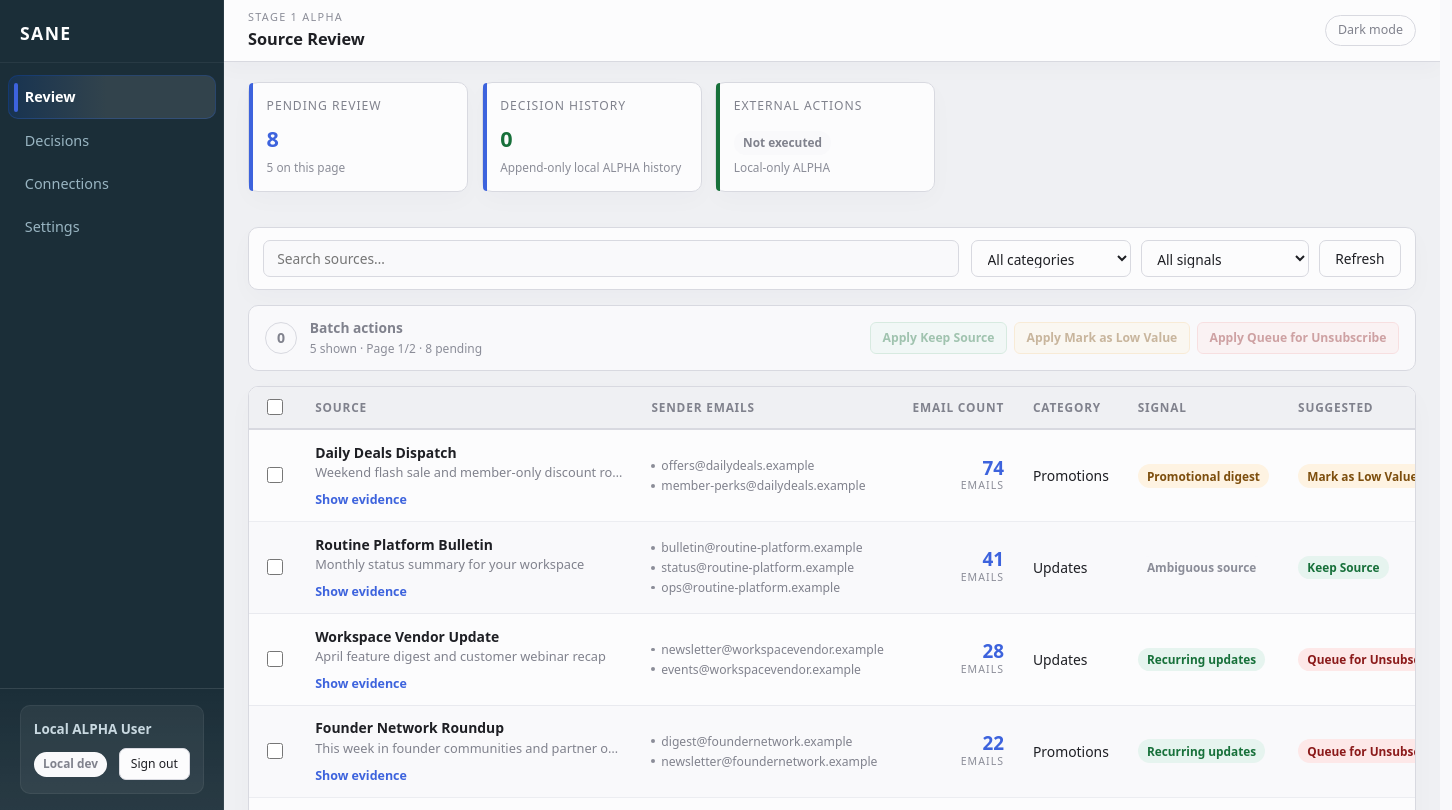
Test: App › batch decisions require confirmation before updating local state
Click the checkbox named "select daily deals dispatch" at x=275, y=475, box [267,467,283,483]
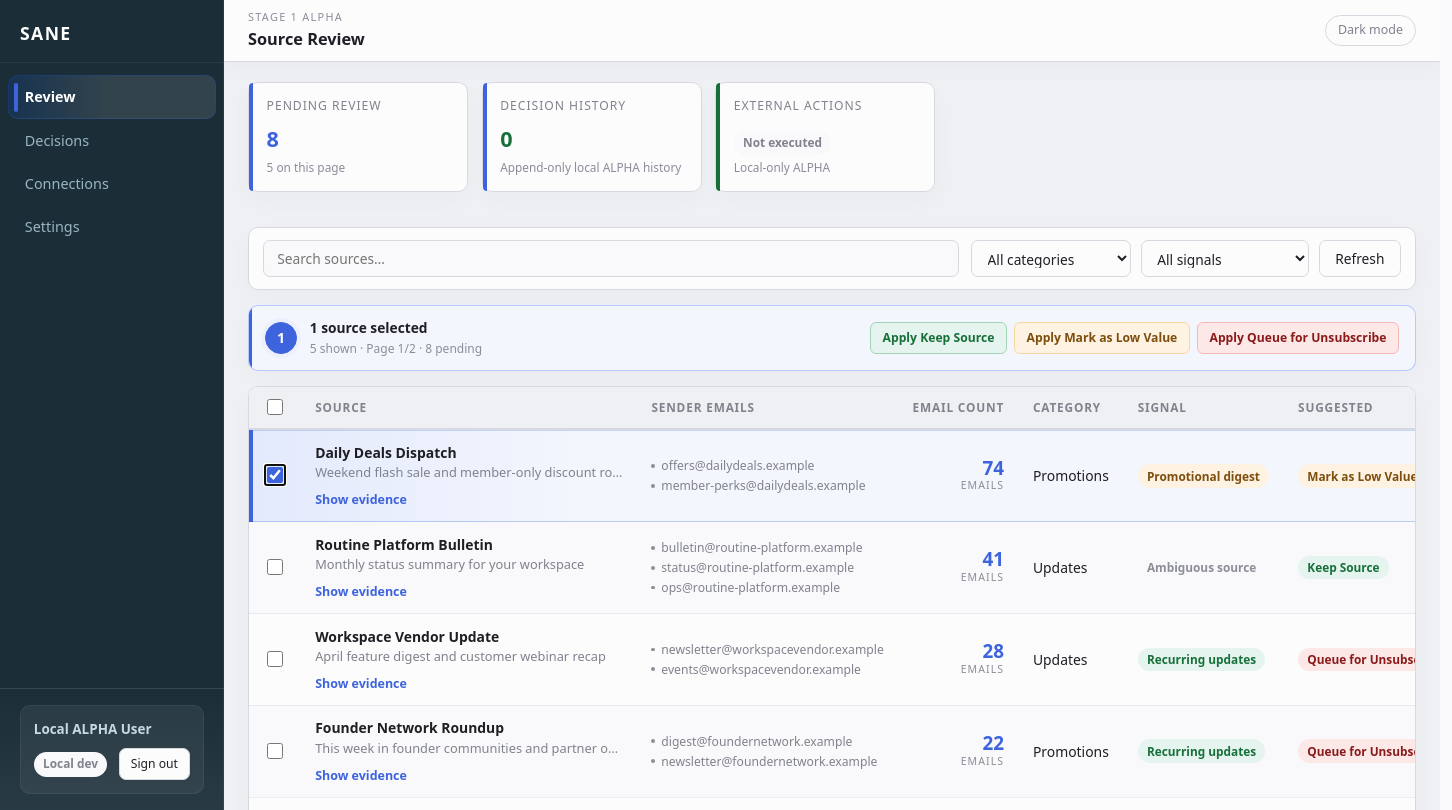
Click the checkbox named "select routine platform bulletin" at x=275, y=567, box [267,559,283,575]
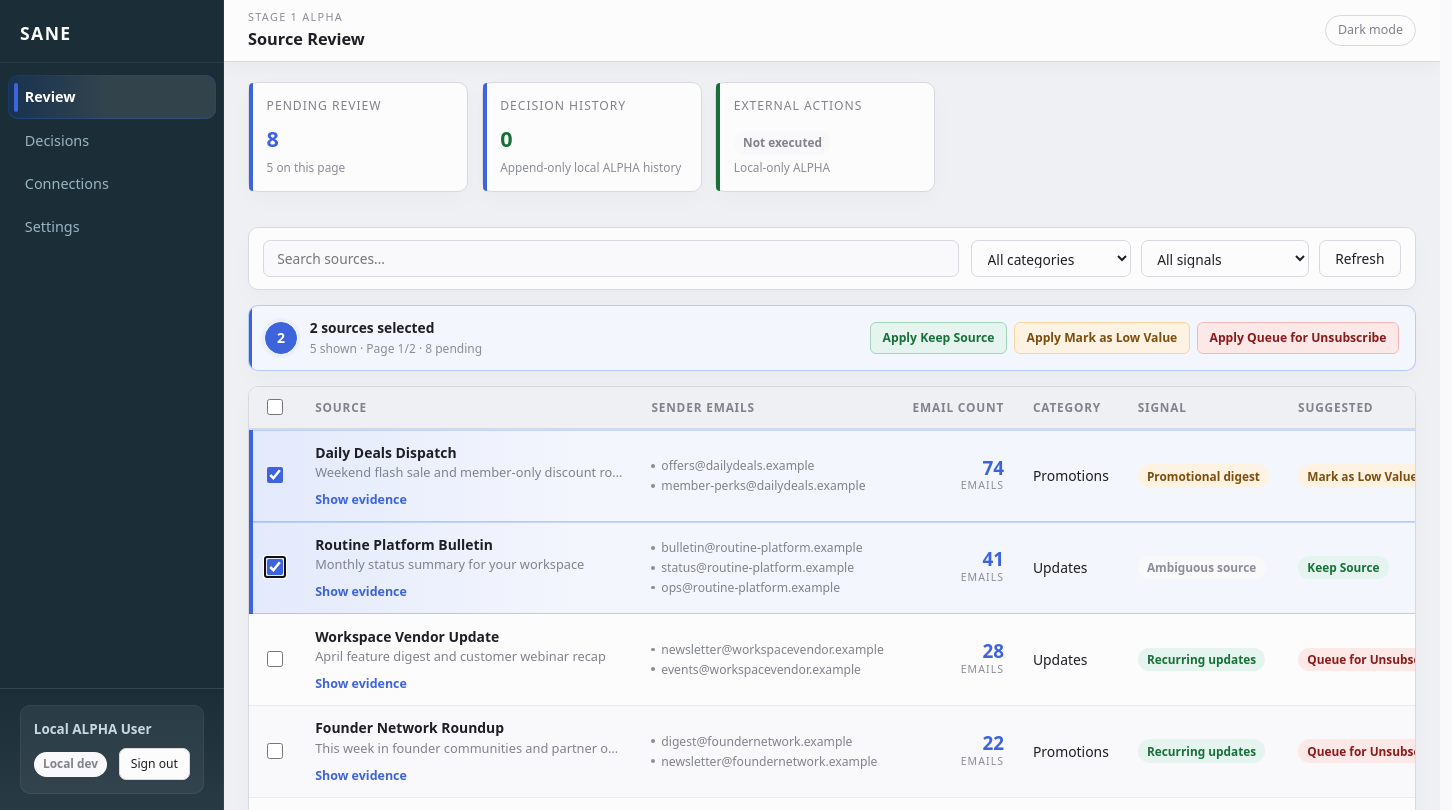
Click the button "Apply Mark as Low Value" at x=1102, y=338, box [1014,322,1190,354]
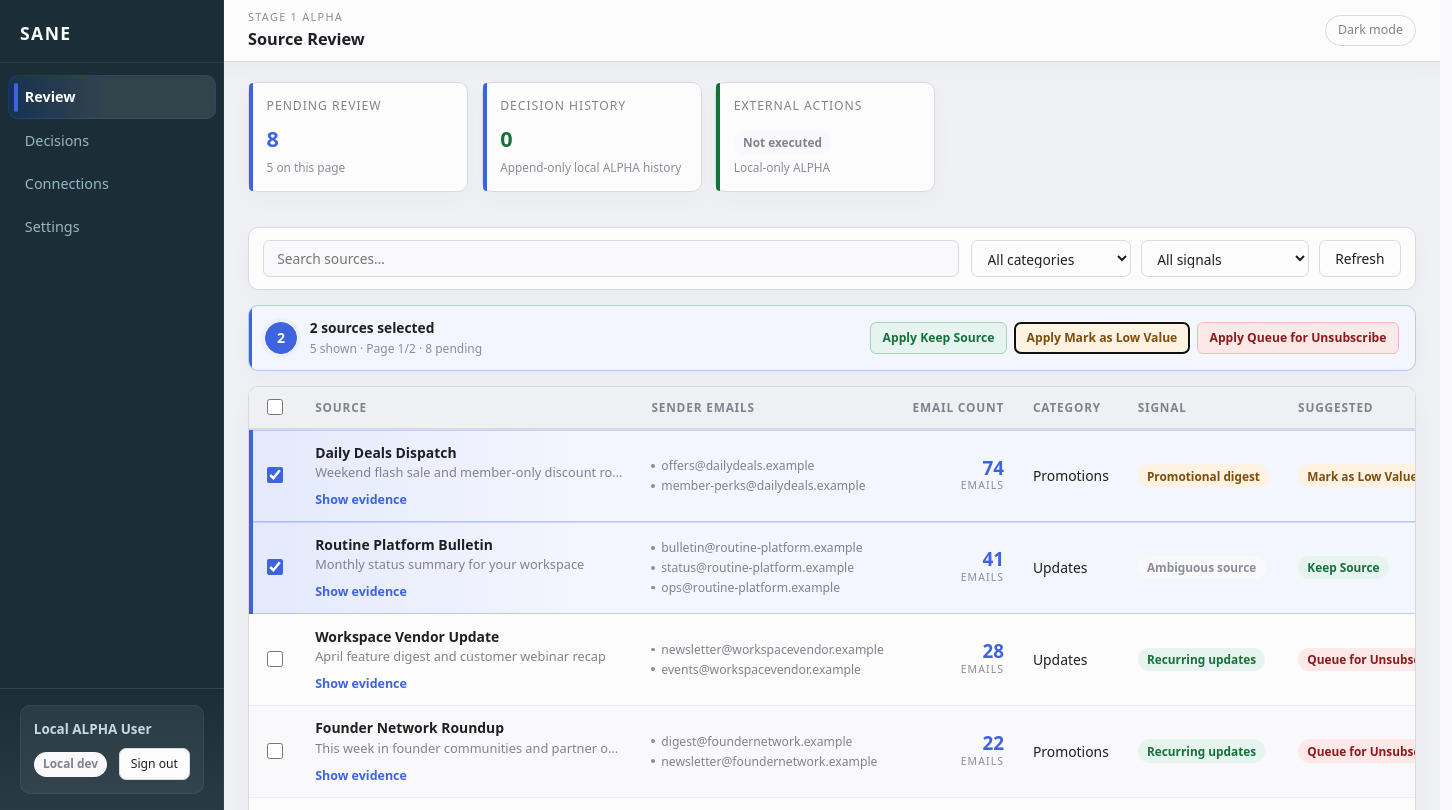
expect the text "Daily Deals Dispatch" is shown: met, box [315,443,456,462]
Click the button "Apply Mark as Low Value" at x=1102, y=338, box [1014,322,1190,354]
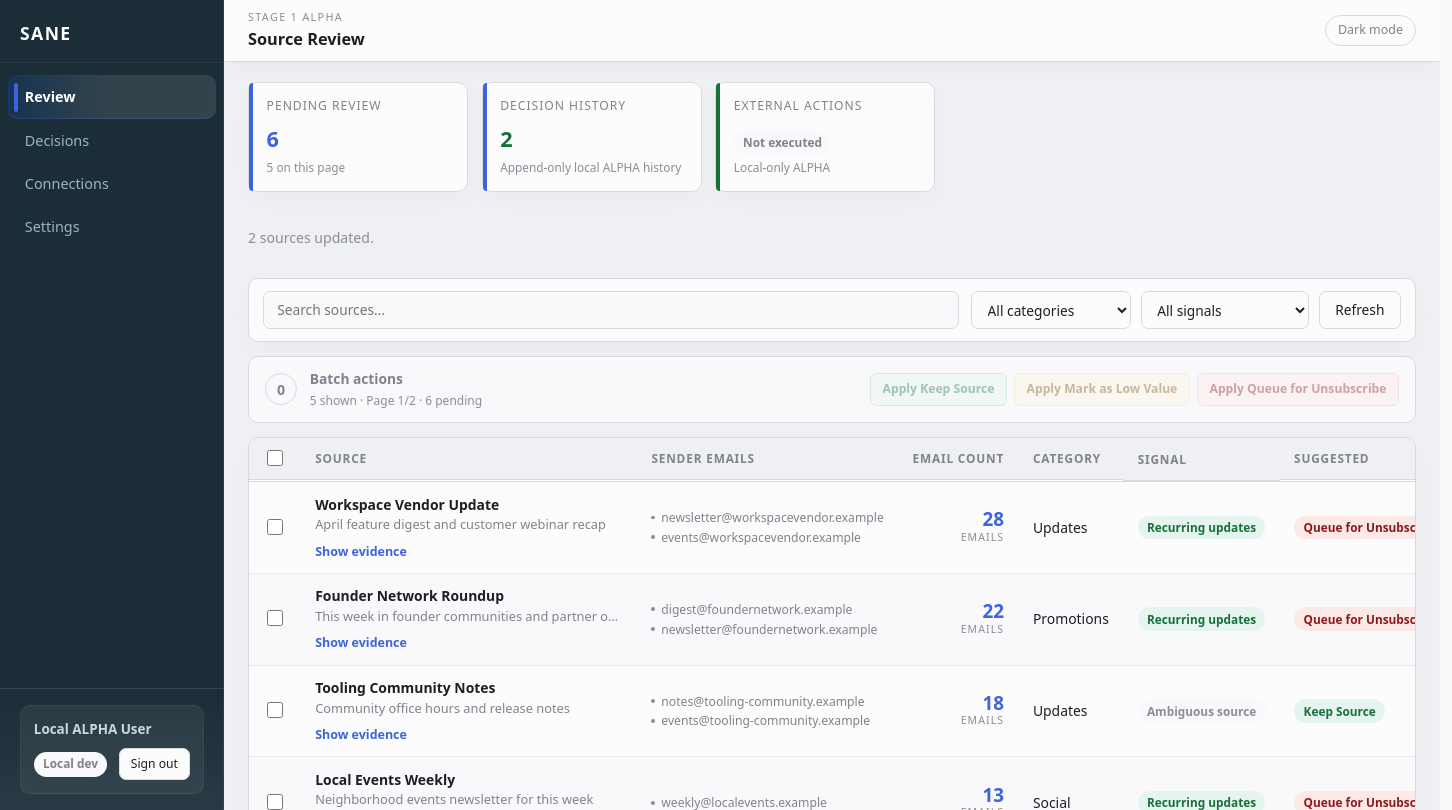
expect the text "Daily Deals Dispatch" is gone: met
expect the message shows "2 sources updated": met, box [248,228,374,247]
